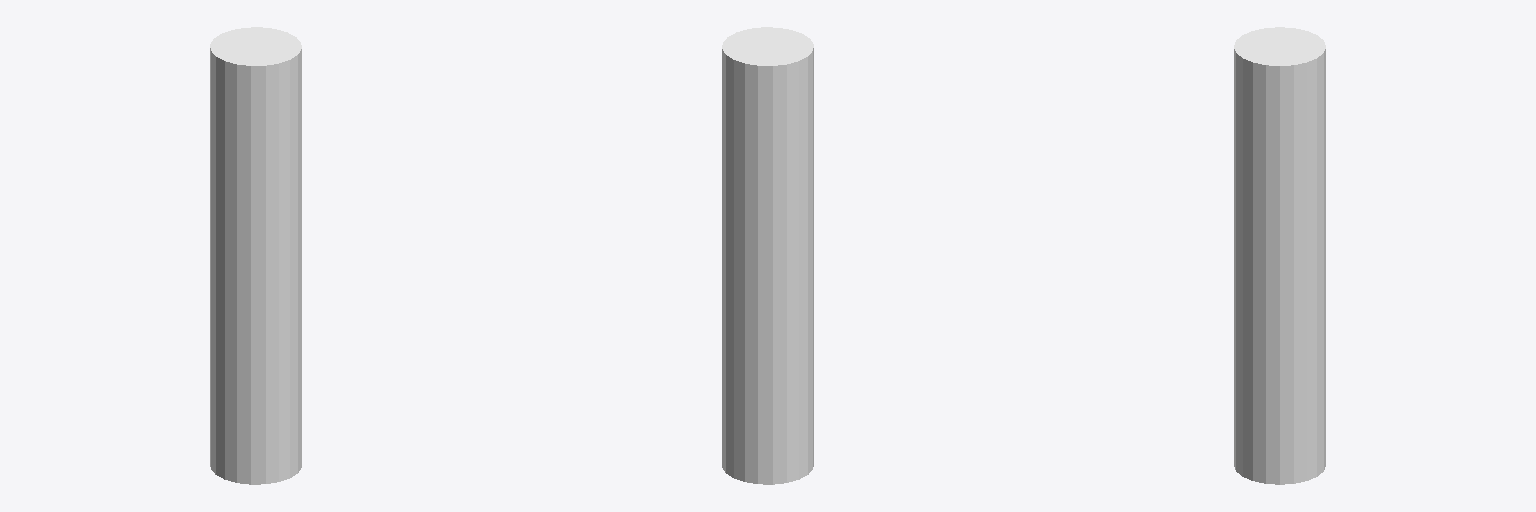
Rendered from Bar.obj.
3 views of the same model, side by side, from view 1: azimuth 30°, elevation 25°; view 2: azimuth 150°, elevation 25°; view 3: azimuth 270°, elevation 25° (orthographic).
Parts seen in each view (by area): view 1: Bar; view 2: Bar; view 3: Bar.
Part boxes in pixels (left/top/right/bottom): Bar: left=210, top=27, right=301, bottom=484; Bar: left=722, top=27, right=813, bottom=484; Bar: left=1234, top=27, right=1325, bottom=484.
Size of the model in its own units: 2 by 10 by 2.